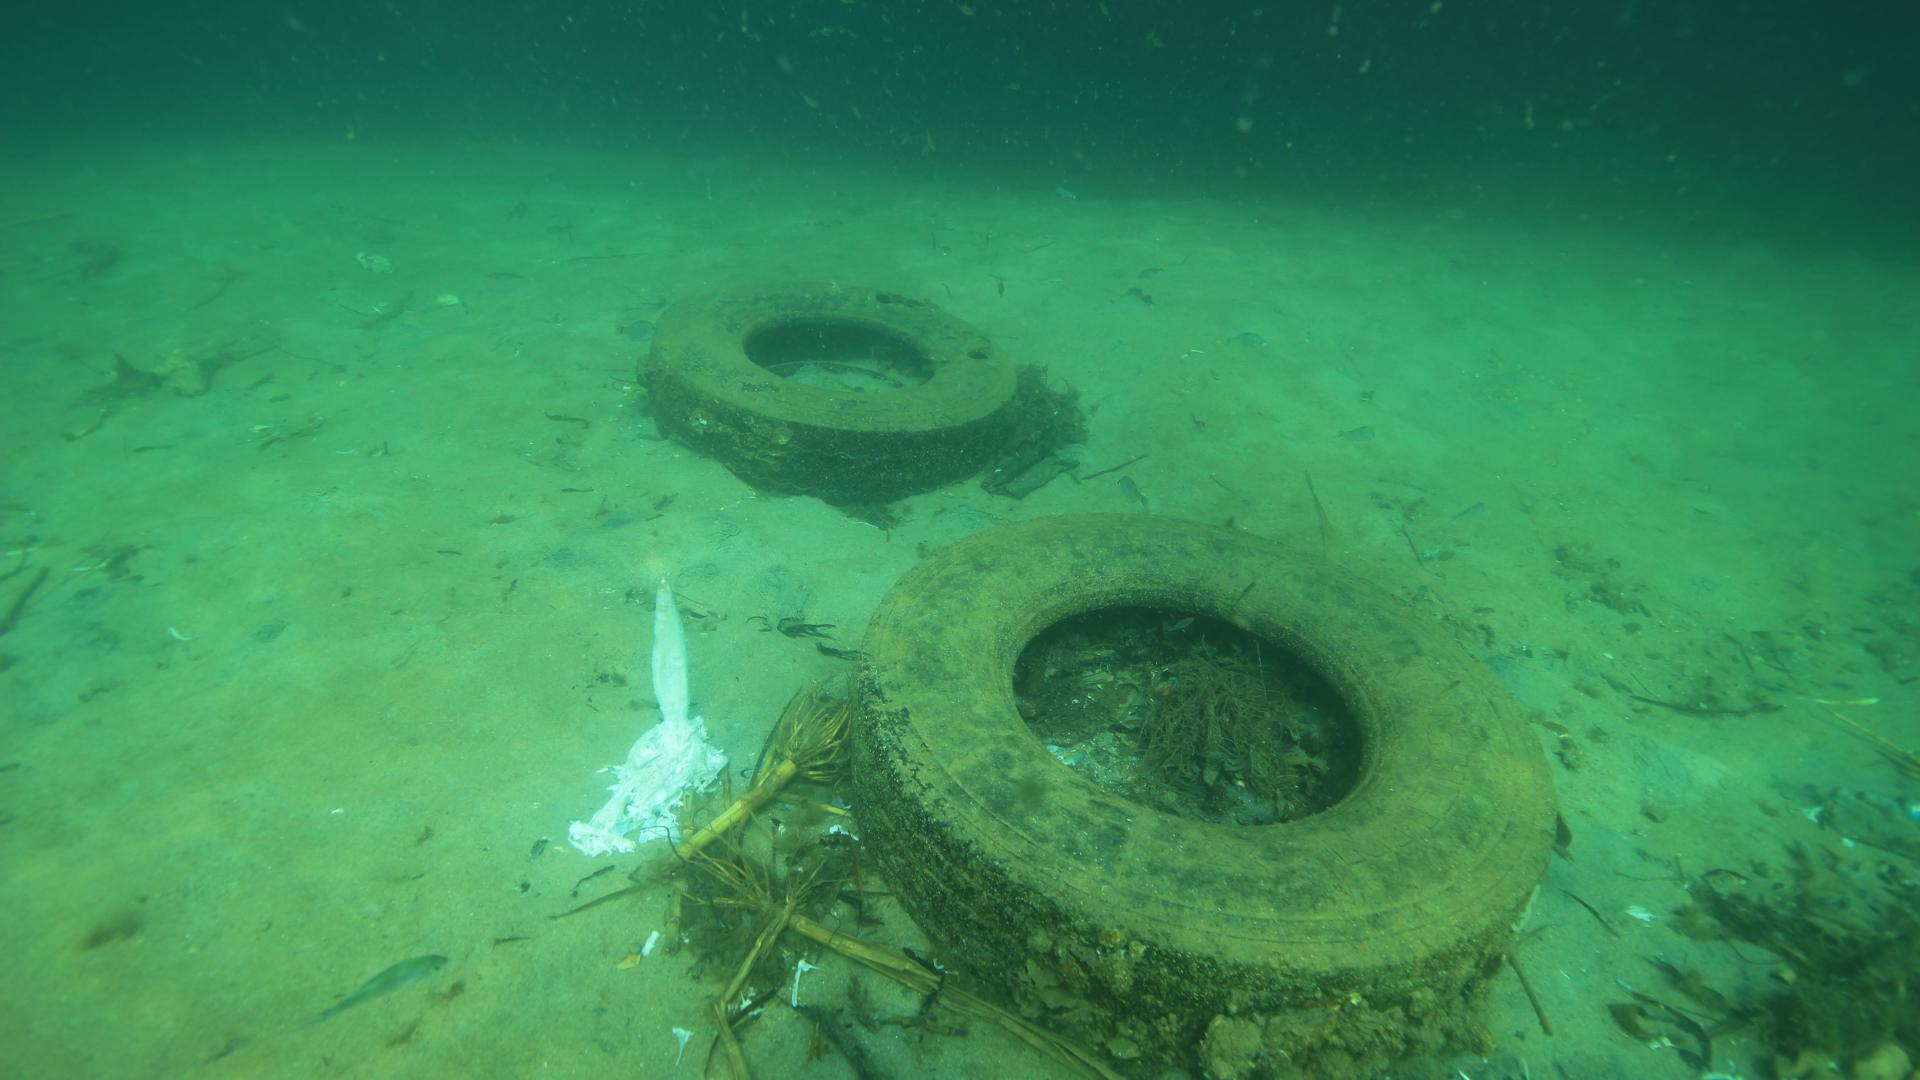tire: (835, 517, 1559, 1073), (641, 270, 1014, 501)
